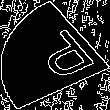P_SE: (15, 24, 95, 86)
